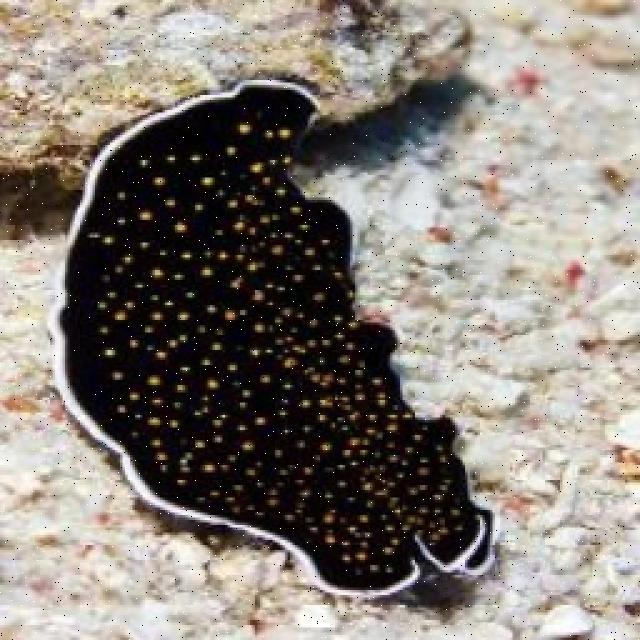reefs: (45, 75, 500, 599)
